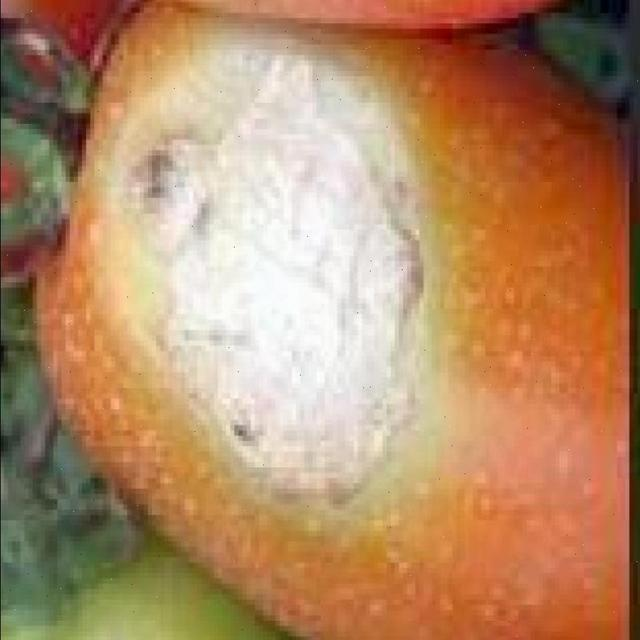Sunscald Fruit: (58, 28, 297, 345)
